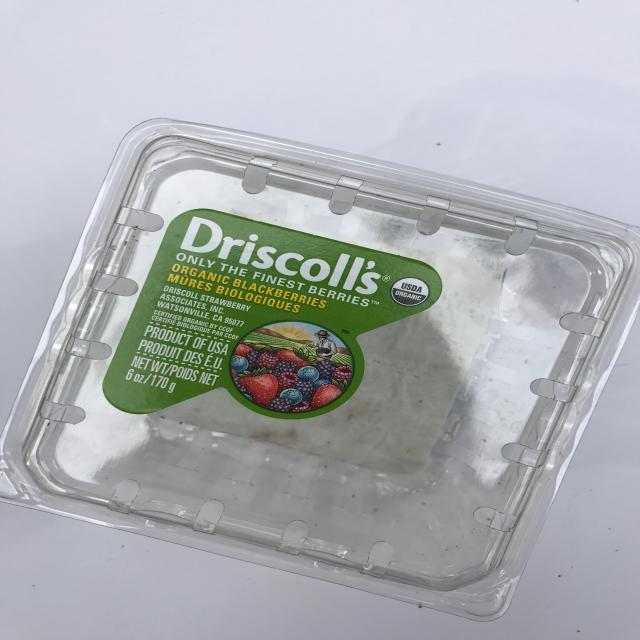plastic: (4, 116, 640, 622)
